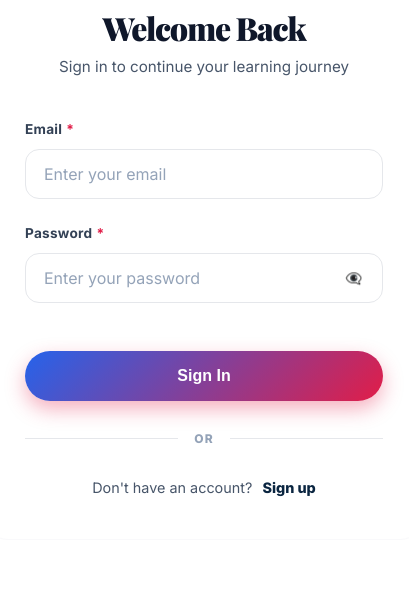
Scenario: LoginForm › clears error when user types
// Trigger error
Click the button "Sign In": (204, 376) [25,351,383,401]
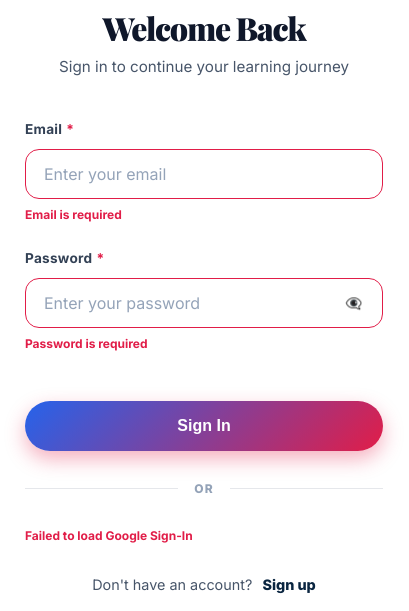
Check: the text "Email is required" is shown, box [25,207,122,222]
// Type to clear error
In the field labelled "Email*": (204, 174) [25,149,383,199], type "test@example.com"
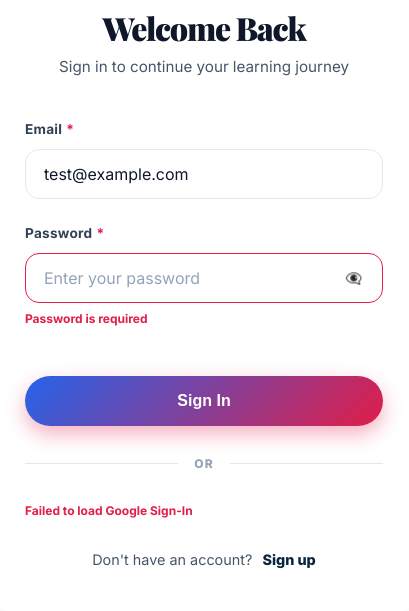
Check: the text "Email is required" is gone
